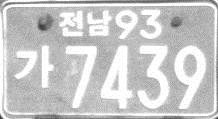3: (135, 44, 170, 109), (138, 8, 162, 40)
4: (98, 43, 133, 110)
7: (63, 44, 99, 109)
9: (172, 43, 207, 110), (114, 8, 138, 39)
가: (13, 43, 54, 89)
전남_O: (58, 9, 112, 37)
